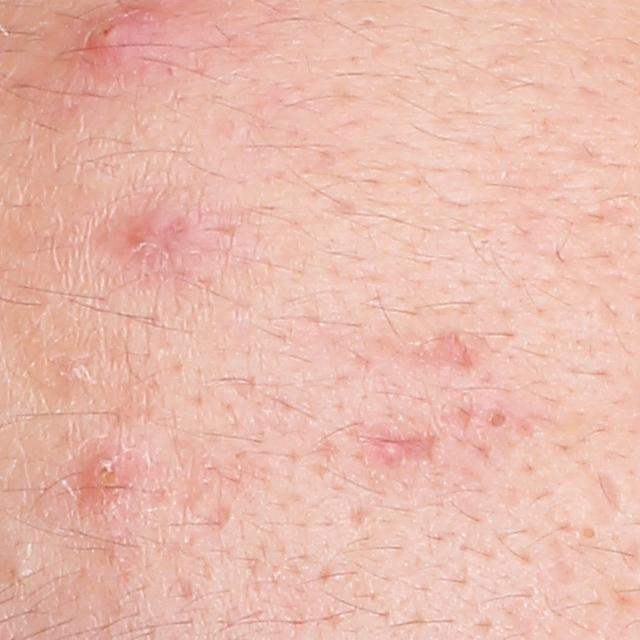atrophic_scar: (390, 332, 486, 388), (155, 446, 214, 523), (364, 434, 437, 461), (597, 470, 626, 514), (206, 503, 234, 532)
comedo: (48, 357, 90, 388), (482, 402, 514, 438), (574, 525, 604, 542)
papule: (115, 222, 170, 270), (81, 16, 142, 56), (86, 454, 133, 498)
